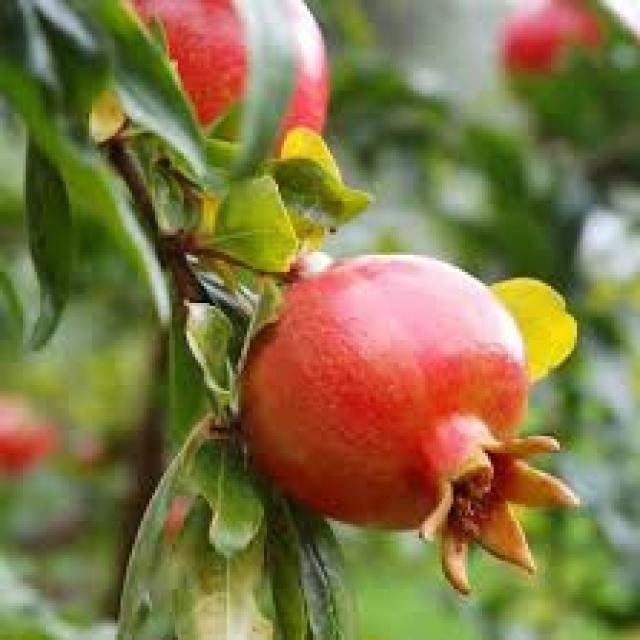Pomegranate: (251, 266, 547, 540)
